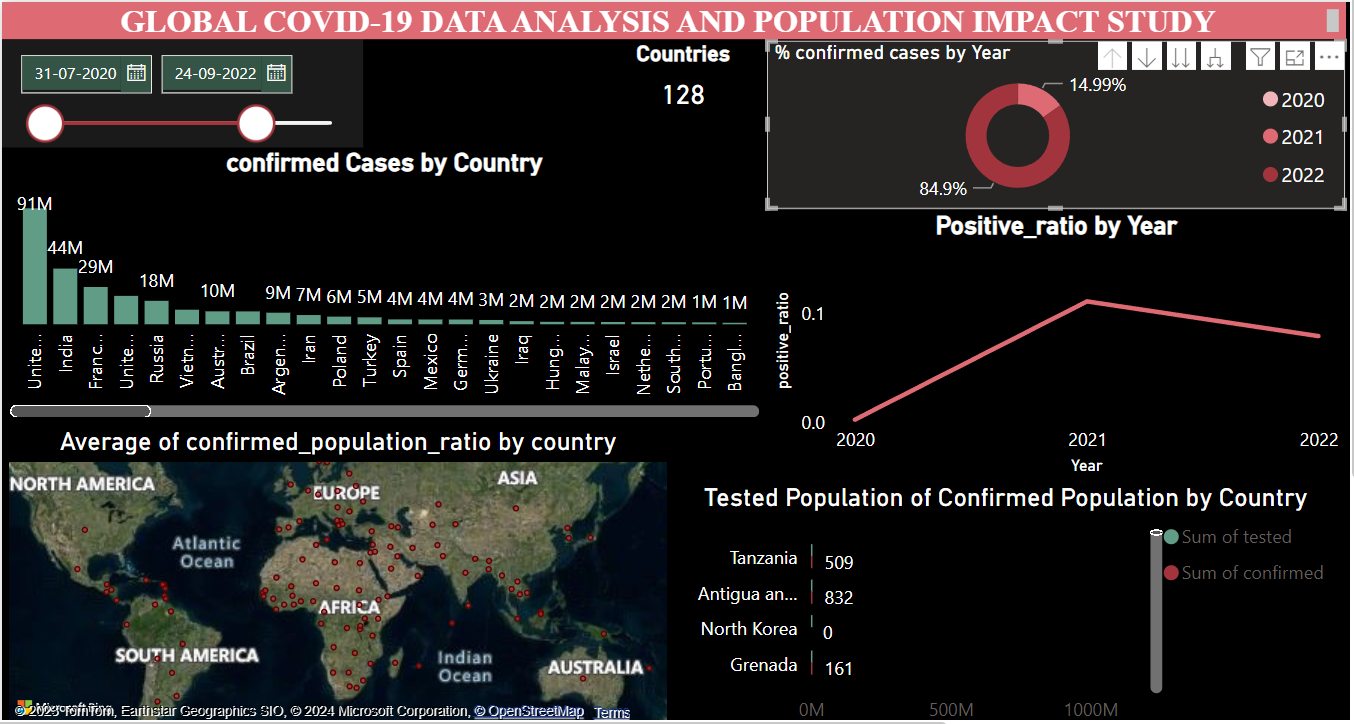

The page's visual inventory and layout, read from the dashboard file:
{"tool":"powerbi","page":{"name":"DashBoard","canvas":[1280,720],"ordinal":3},"visuals":[{"type":"columnChart","title":" confirmed Cases by Country","fields":{"Category":["covid19_file.country"],"Y":["Sum(covid19_file.confirmed)"]},"box":[0,117.4,802.3,222.1],"z":0},{"type":"clusteredBarChart","title":"Tested Population of  Confirmed Population by Country","fields":{"Category":["covid19_file.country"],"Y":["Sum(covid19_file.confirmed)","Sum(covid19_file.tested)"]},"box":[548.8,339.5,722.1,380.2],"z":1000},{"type":"lineChart","title":"Positive_ratio by Year","fields":{"Category":["covid19_file.date.Variation.Date Hierarchy.Year","covid19_file.date.Variation.Date Hierarchy.Quarter","covid19_file.date.Variation.Date Hierarchy.Month","covid19_file.date.Variation.Date Hierarchy.Day"],"Y":["covid19_file.positive_ratio"]},"box":[0,339.5,548.8,380.2],"z":2000},{"type":"donutChart","title":"% confirmed cases by Year","fields":{"Y":["Sum(covid19_file.confirmed)"],"Category":["covid19_file.date.Variation.Date Hierarchy.Year","covid19_file.date.Variation.Date Hierarchy.Quarter","covid19_file.date.Variation.Date Hierarchy.Month","covid19_file.date.Variation.Date Hierarchy.Day"]},"box":[802.3,45.3,477.9,294.2],"z":3000},{"type":"slicer","fields":{"Values":["covid19_file.date Hierarchy.date"]},"box":[0,45.3,274.4,72.1],"z":4000},{"type":"textbox","box":[0,0,1280.2,45.3],"z":5000},{"type":"cardVisual","fields":{"Data":["Sum(covid19_file.confirmed)"]},"box":[290.7,45.3,255.8,72.1],"z":6000},{"type":"cardVisual","fields":{"Data":["CountNonNull(covid19_file.country)"]},"box":[546.5,46.5,255.8,74.4],"z":7000}]}

Visuals, with their boxes on the page's 1280x720 design canvas (x1, y1, x2, y2). These are canvas units, not pixel positions in the 1354x724 screenshot, which may show the page scaled, cropped or inside an application window:
" confirmed Cases by Country" columnChart: bbox=(0, 117, 802, 340)
"Tested Population of  Confirmed Population by Country" clusteredBarChart: bbox=(549, 340, 1271, 720)
"Positive_ratio by Year" lineChart: bbox=(0, 340, 549, 720)
"% confirmed cases by Year" donutChart: bbox=(802, 45, 1280, 340)
slicer - covid19_file.date Hierarchy.date: bbox=(0, 45, 274, 117)
textbox: bbox=(0, 0, 1280, 45)
cardVisual - Sum(covid19_file.confirmed): bbox=(291, 45, 546, 117)
cardVisual - CountNonNull(covid19_file.country): bbox=(546, 46, 802, 121)
